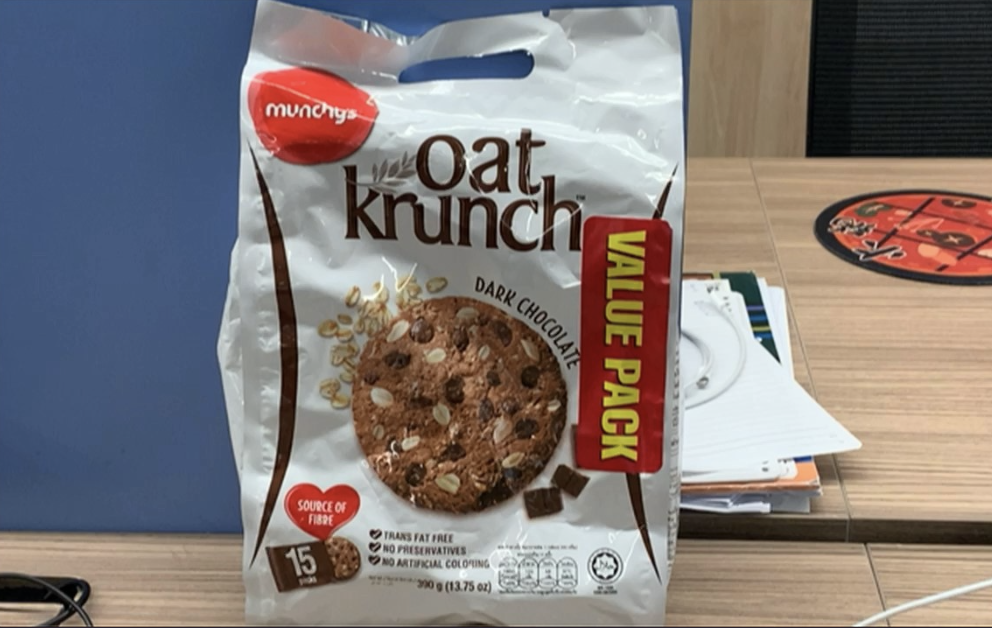cookies_150g: (266, 103, 648, 605)
